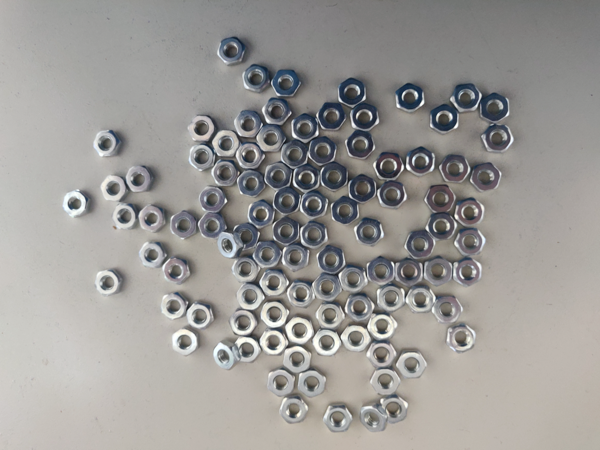nut: (446, 324, 478, 354), (406, 231, 438, 261), (338, 78, 369, 108), (242, 64, 273, 94), (470, 163, 502, 192), (482, 125, 514, 154), (479, 93, 511, 122), (429, 105, 461, 134), (395, 84, 427, 113), (454, 230, 486, 259), (454, 198, 486, 227), (231, 222, 261, 252), (451, 85, 482, 114), (271, 69, 302, 98), (440, 155, 471, 184), (366, 341, 397, 370), (353, 219, 384, 248), (432, 295, 463, 324), (260, 301, 291, 330), (406, 148, 437, 177), (262, 97, 293, 126), (312, 329, 342, 358), (367, 313, 397, 342), (323, 404, 353, 433), (406, 285, 436, 314), (63, 189, 92, 219), (427, 212, 456, 242), (316, 102, 346, 131), (279, 397, 310, 425), (341, 325, 372, 353), (370, 369, 401, 397), (282, 347, 313, 375), (312, 275, 343, 303), (315, 247, 346, 275), (377, 181, 408, 209), (345, 131, 376, 159), (348, 105, 379, 133), (307, 139, 338, 167), (425, 256, 453, 287), (344, 293, 375, 321), (397, 351, 427, 379), (366, 258, 396, 286), (454, 258, 484, 286), (375, 153, 405, 181), (199, 187, 229, 215), (212, 340, 240, 370), (217, 38, 248, 65), (272, 218, 301, 246), (229, 309, 258, 337), (171, 212, 199, 241), (236, 283, 265, 311), (308, 137, 336, 166), (287, 280, 316, 308), (330, 199, 360, 226), (237, 171, 267, 198), (247, 201, 277, 228), (256, 126, 286, 153), (299, 192, 329, 219), (299, 222, 329, 249), (260, 270, 290, 297), (425, 185, 455, 212), (163, 258, 191, 286), (286, 317, 314, 345), (360, 405, 388, 433), (171, 328, 198, 357), (281, 246, 310, 273), (187, 302, 214, 331), (187, 116, 216, 143), (266, 370, 295, 397), (376, 286, 405, 313), (160, 293, 188, 320), (232, 256, 259, 284), (320, 164, 348, 191), (217, 230, 244, 258), (266, 161, 292, 190), (292, 113, 318, 142), (339, 267, 368, 293), (126, 166, 153, 193), (235, 110, 262, 137), (293, 164, 320, 191), (233, 338, 261, 364), (95, 270, 123, 296), (139, 243, 167, 269), (93, 130, 121, 156), (381, 398, 409, 424), (281, 141, 307, 169), (139, 206, 165, 233), (212, 130, 238, 157), (317, 303, 344, 329), (299, 371, 327, 396), (189, 144, 214, 172), (236, 144, 264, 169), (350, 175, 375, 203), (253, 242, 281, 267), (259, 330, 287, 354), (112, 203, 137, 229), (273, 190, 299, 215), (398, 258, 423, 284), (200, 213, 224, 240), (102, 175, 126, 201), (213, 160, 237, 185)
